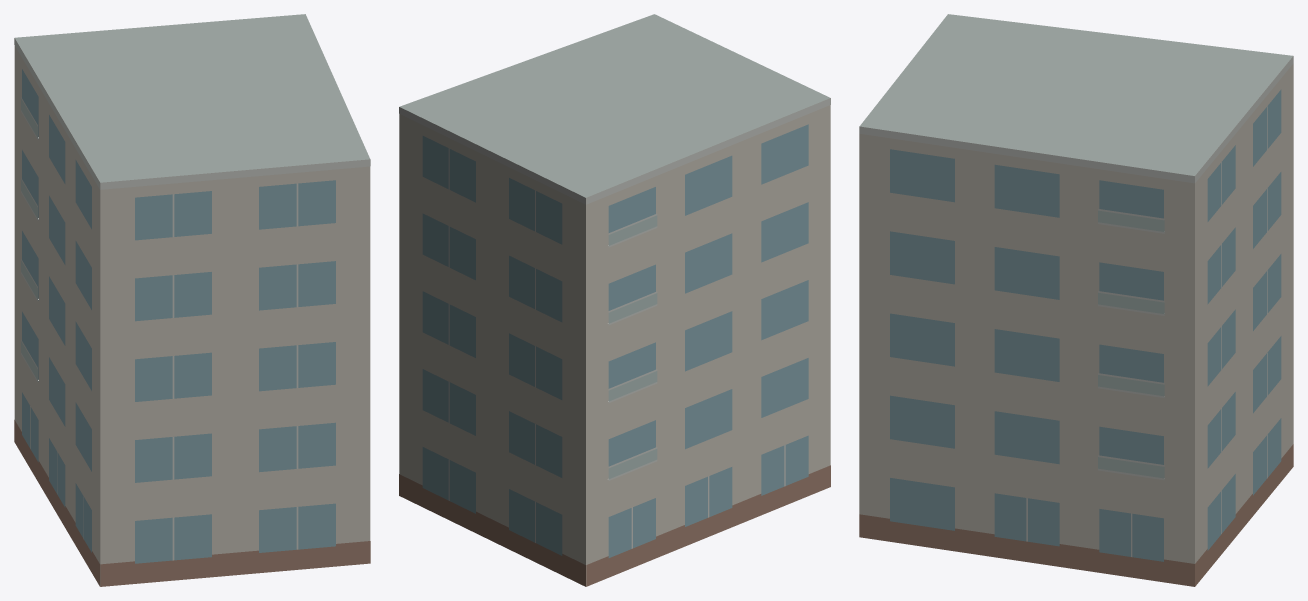
Rendered from survey-upis-32537455.glb.
3 views of the same model, side by side, from view 1: azimuth 30°, elevation 25°; view 2: azimuth 150°, elevation 25°; view 3: azimuth 270°, elevation 25° (orthographic). The views are drawn at different scales.
Visible parts, largest first — view 1: survey-upis-32537455.tmp; view 2: survey-upis-32537455.tmp; view 3: survey-upis-32537455.tmp.
Part boxes in pixels (<box>): survey-upis-32537455.tmp: <box>14,14,370,586</box>; survey-upis-32537455.tmp: <box>399,14,830,586</box>; survey-upis-32537455.tmp: <box>859,14,1293,586</box>.
Size of the model in its own units: 11.65 by 13.75 by 13.18.
